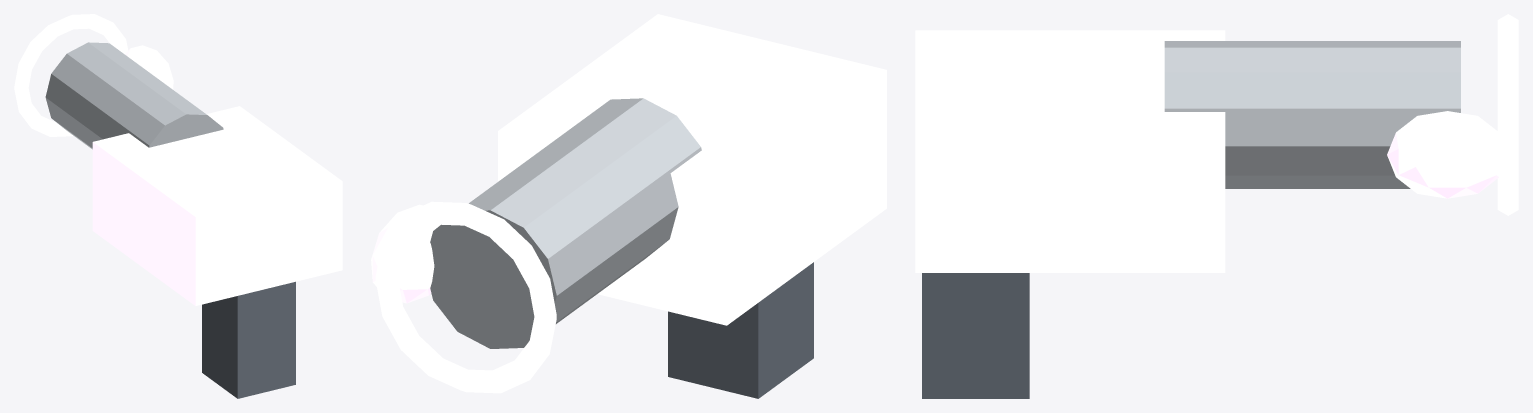
Rendered from pistola_6.glb.
3 renders of one model, left to right at view 1: azimuth 30°, elevation 25°; view 2: azimuth 150°, elevation 25°; view 3: azimuth 270°, elevation 25°, orthographic. The views are drawn at different scales.
Parts seen in each view (by area): view 1: cuerpo, cañon, empuñadura, bobina, punta; view 2: cuerpo, cañon, bobina, empuñadura, punta; view 3: cuerpo, cañon, empuñadura, punta, bobina.
Boxes of the visible parts, x1=… form: cuerpo: x1=92, y1=106, x2=342, y2=305; cañon: x1=45, y1=42, x2=223, y2=149; empuñadura: x1=202, y1=281, x2=295, y2=398; bobina: x1=14, y1=14, x2=128, y2=136; punta: x1=125, y1=45, x2=173, y2=89; cuerpo: x1=498, y1=14, x2=886, y2=325; cañon: x1=430, y1=98, x2=701, y2=348; bobina: x1=375, y1=201, x2=556, y2=393; empuñadura: x1=668, y1=262, x2=813, y2=398; punta: x1=371, y1=204, x2=440, y2=303; cuerpo: x1=915, y1=30, x2=1225, y2=272; cañon: x1=1164, y1=41, x2=1460, y2=188; empuñadura: x1=922, y1=273, x2=1029, y2=398; punta: x1=1387, y1=111, x2=1505, y2=198; bobina: x1=1497, y1=14, x2=1518, y2=215.
Size of the model in its own units: 0.3819 by 0.5829 by 0.9.
